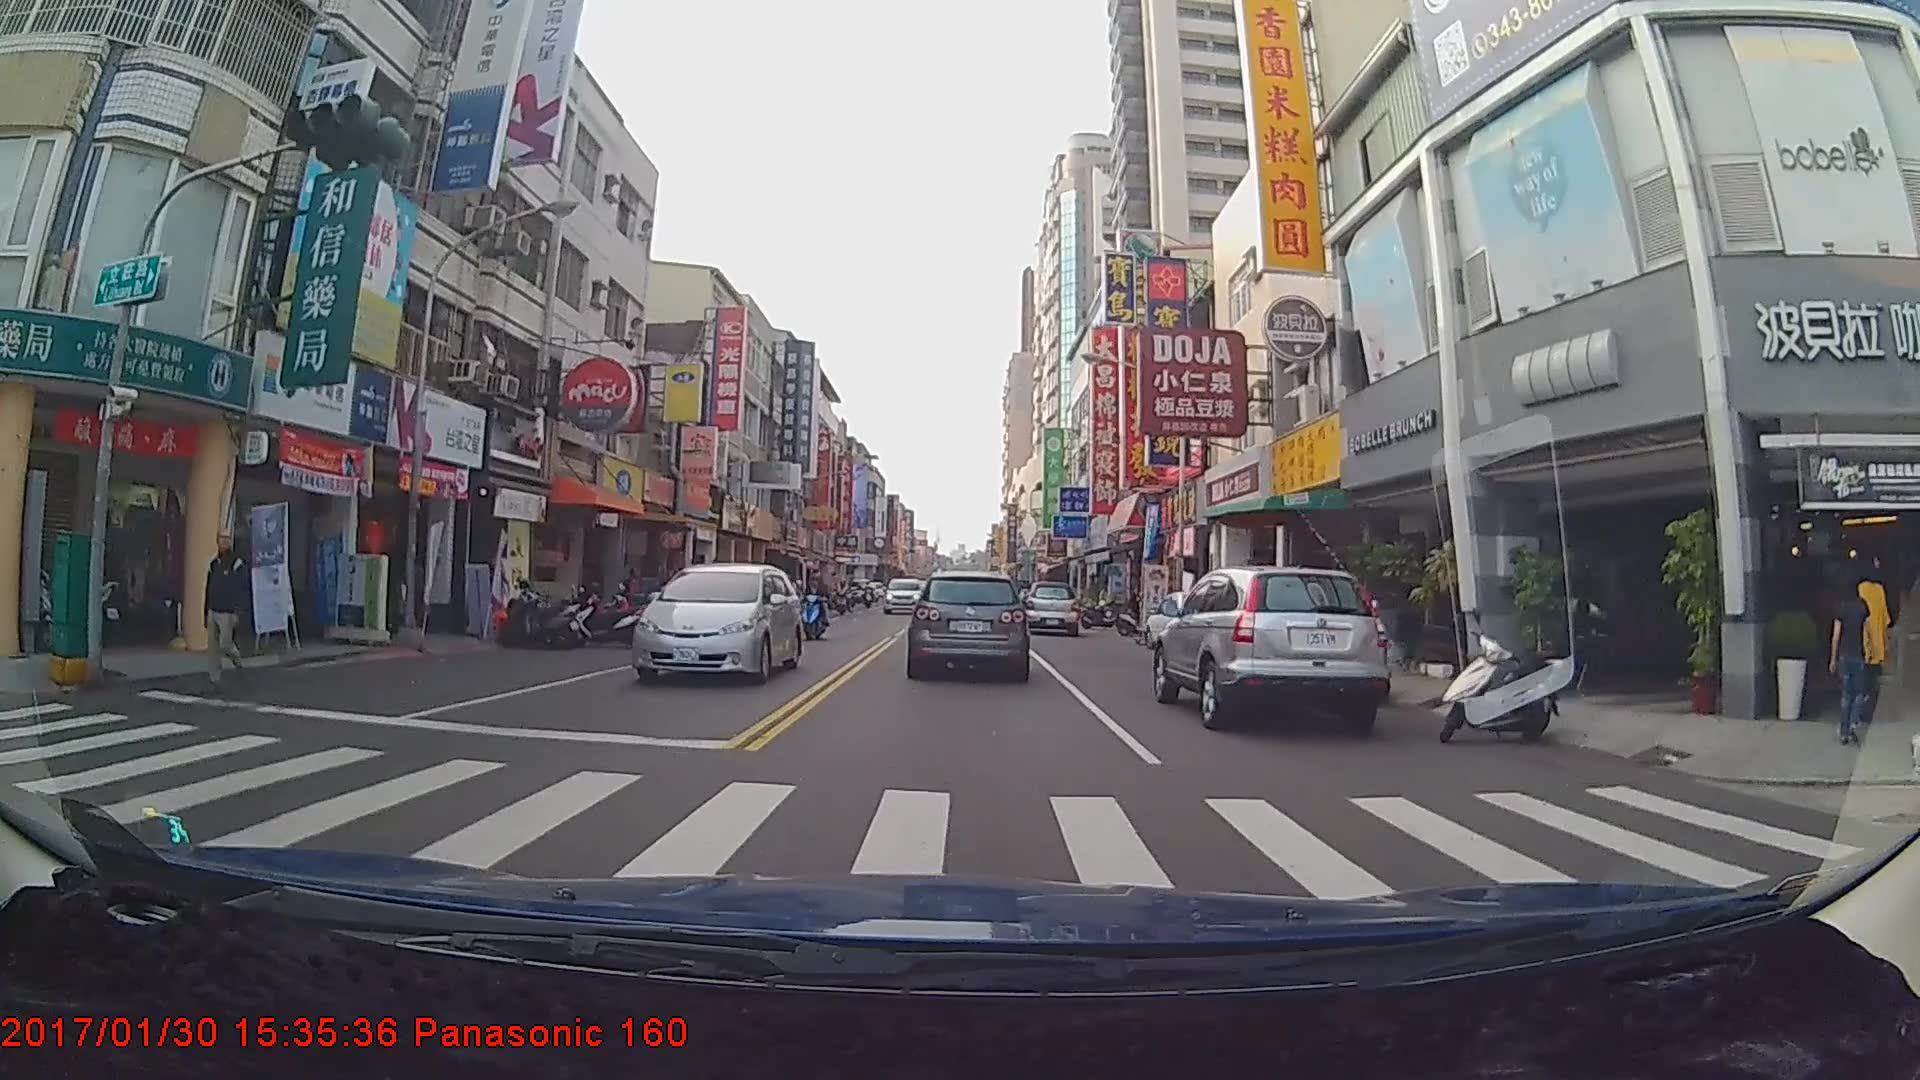pedestrian: (199, 531, 256, 698), (1827, 569, 1876, 754), (1843, 557, 1895, 722)
rider: (800, 573, 835, 641)
vehicle: (1150, 563, 1386, 730), (633, 559, 805, 684), (908, 569, 1028, 676), (1021, 580, 1078, 634), (880, 575, 924, 615)
